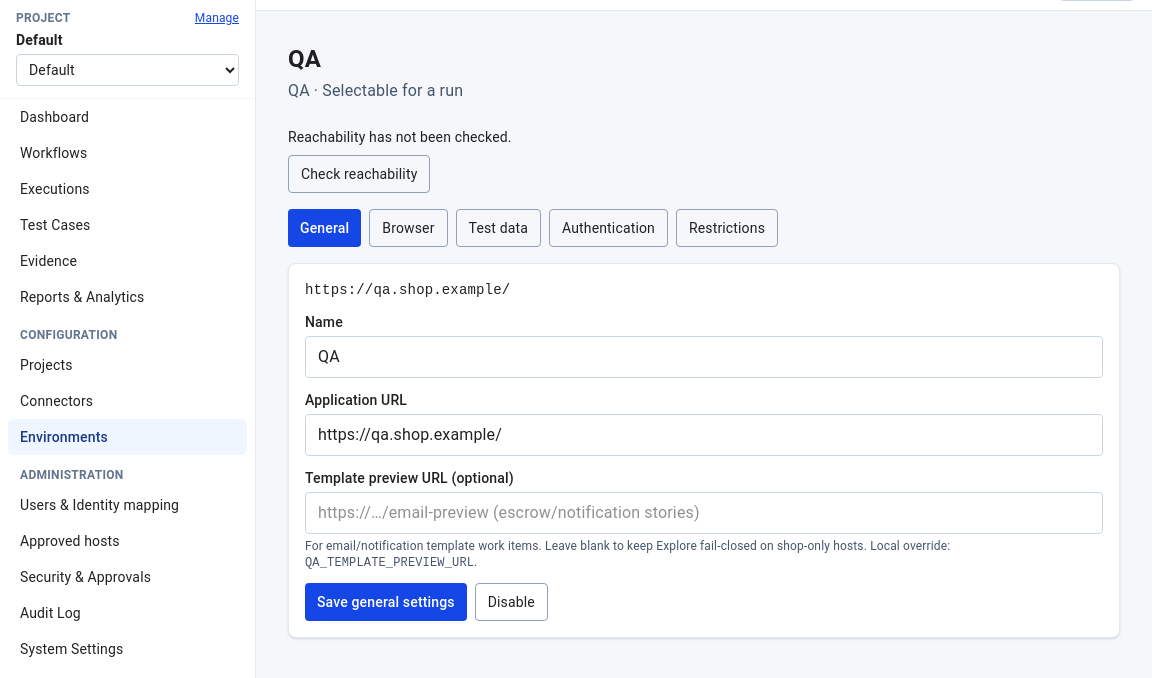
environments › shows a saved authentication secret as a marker and an empty password field
Expected: the text "Reachability has not been checked." is shown, [288,129,512,145]
Expected: the button "Check reachability" is shown, [288,155,430,193]
Click the tab "Authentication": (608, 228) [549,209,668,247]
(page scrolled)
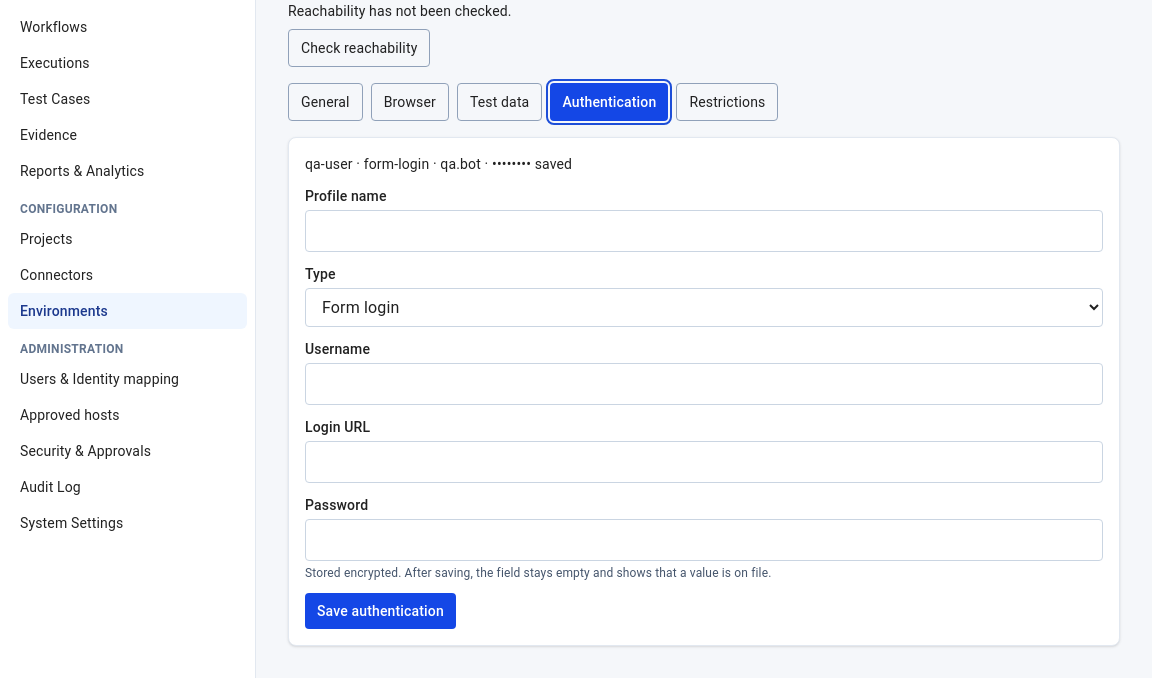
Expected: the text "qa-user · form-login · qa.bot · •••••••• saved" is shown, [305,156,572,172]
Expected: the password field labelled "Password" is empty, [305,519,1103,561]
